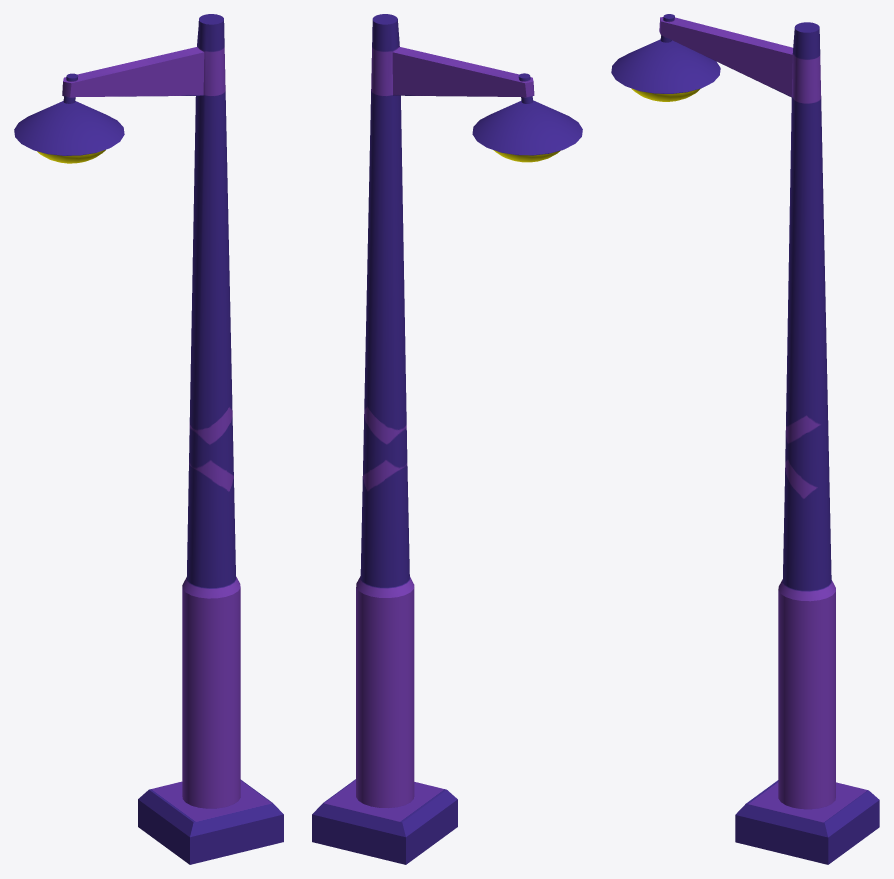
3 renders of one model, left to right at view 1: azimuth 30°, elevation 25°; view 2: azimuth 150°, elevation 25°; view 3: azimuth 330°, elevation 25°, orthographic.
Parts seen in each view (by area): view 1: D_Lamp_Post:polySurface2; view 2: D_Lamp_Post:polySurface2; view 3: D_Lamp_Post:polySurface2.
Boxes of the visible parts, left/top/right/bottom form: D_Lamp_Post:polySurface2: left=14, top=14, right=283, bottom=864; D_Lamp_Post:polySurface2: left=312, top=14, right=582, bottom=864; D_Lamp_Post:polySurface2: left=611, top=14, right=879, bottom=864.
Bounding box in the file's own units: 490 × 1608 × 199.
1 material, 1 textured.
